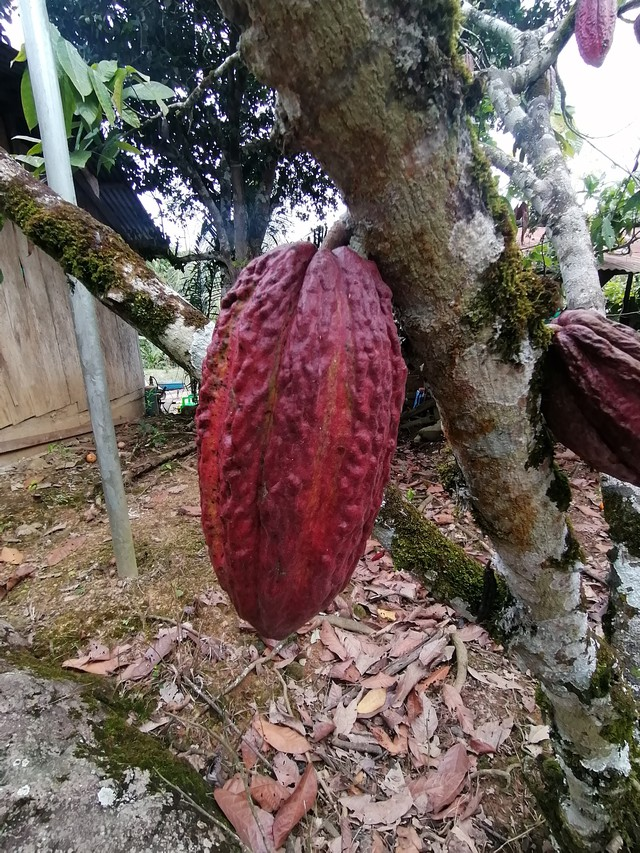Health: (182, 234, 416, 644)
